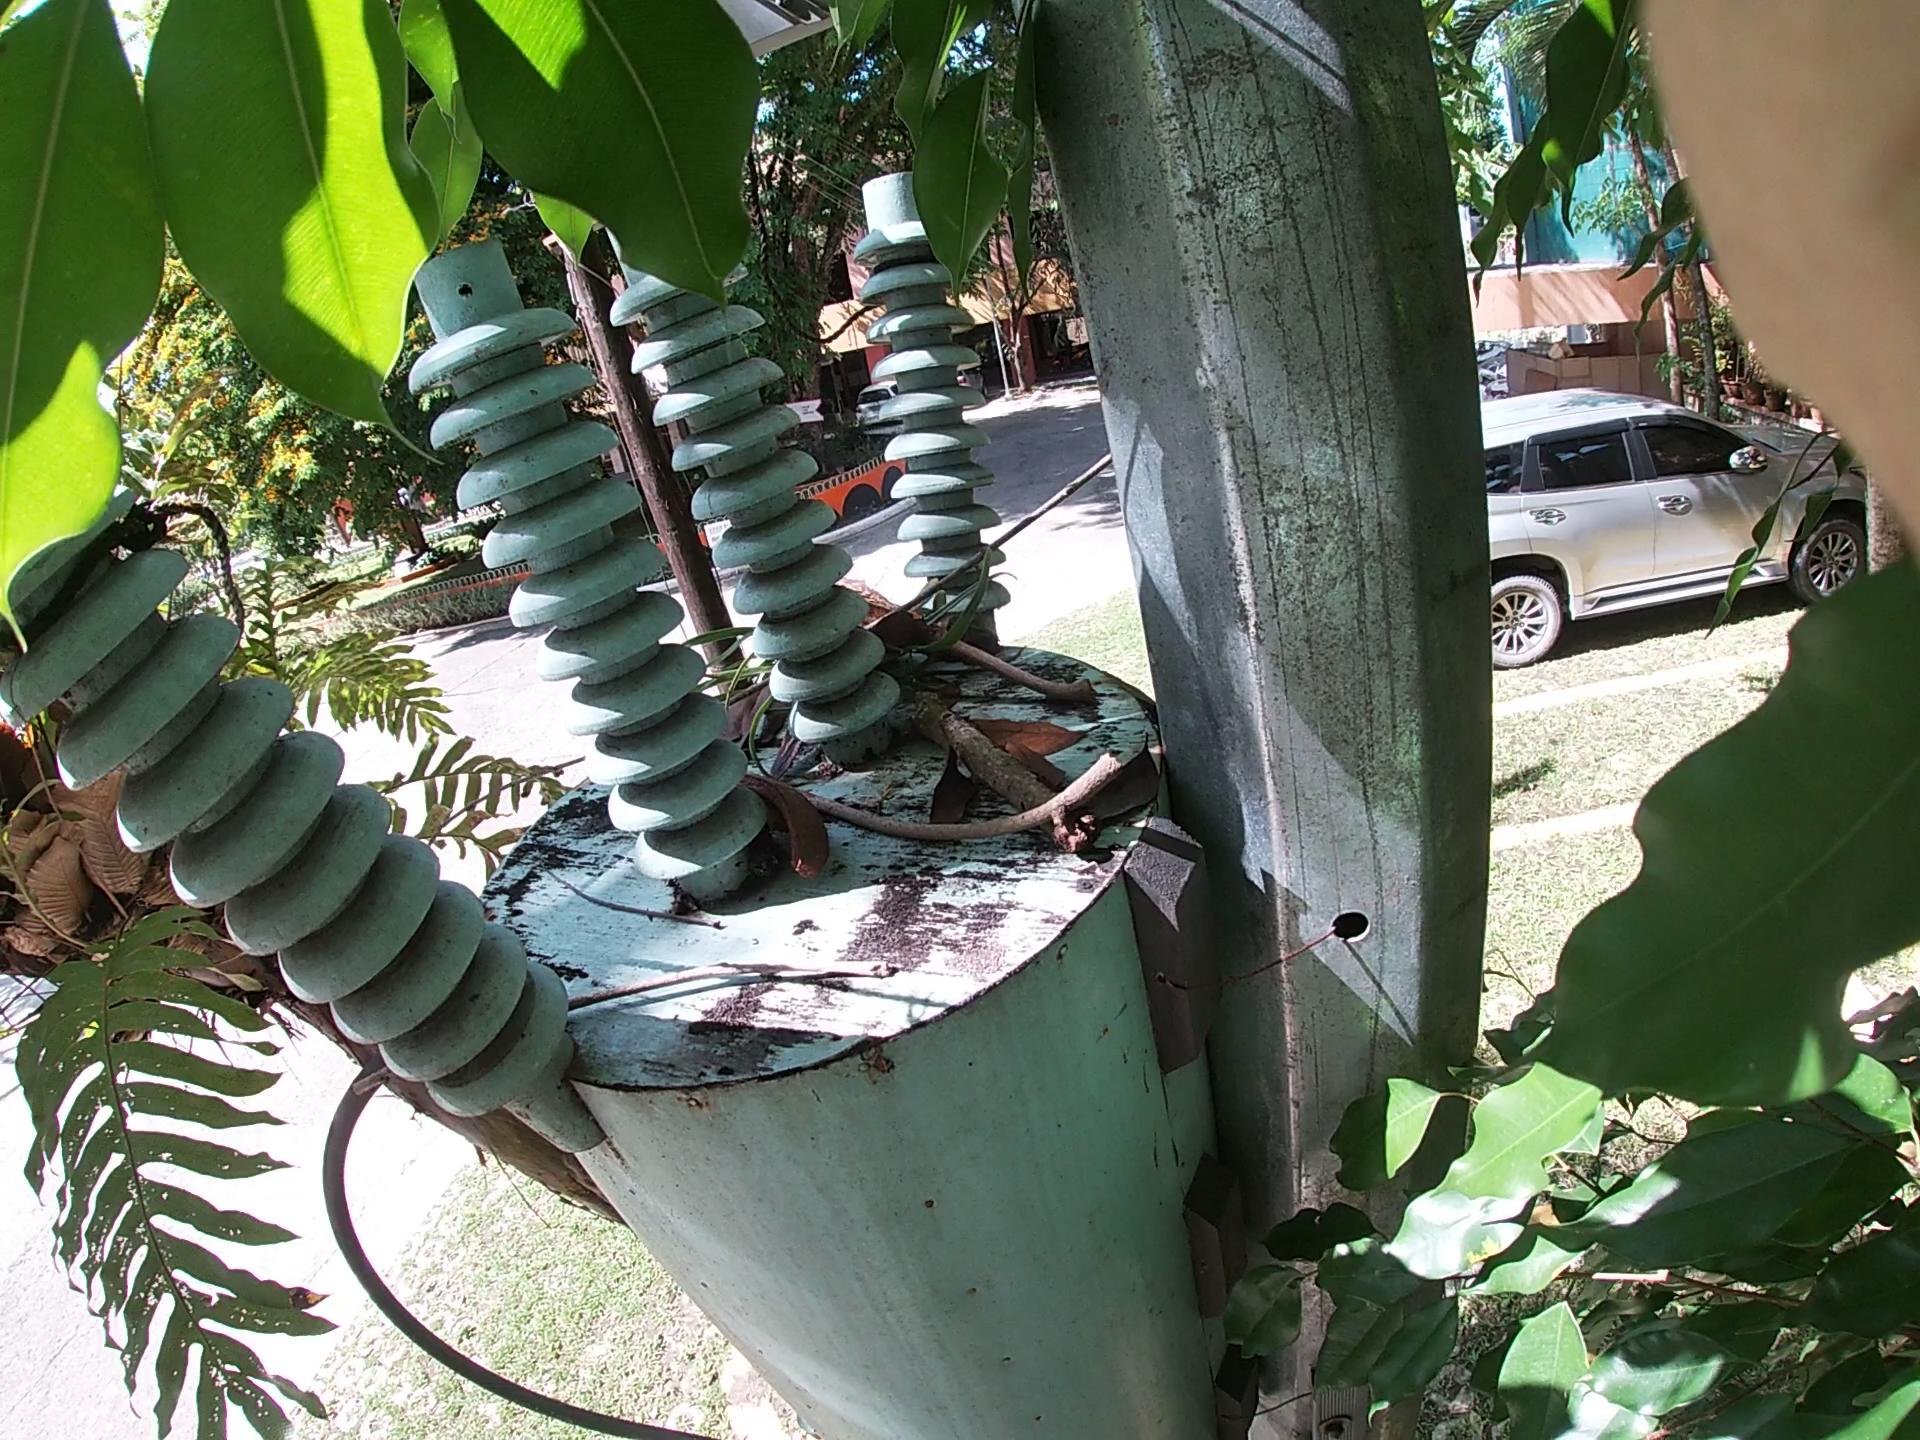branch with leaves: (785, 549, 1128, 936), (848, 430, 1179, 684)
leaf: (954, 702, 1039, 826)
tree branch: (357, 948, 892, 1221), (735, 764, 1379, 821)
